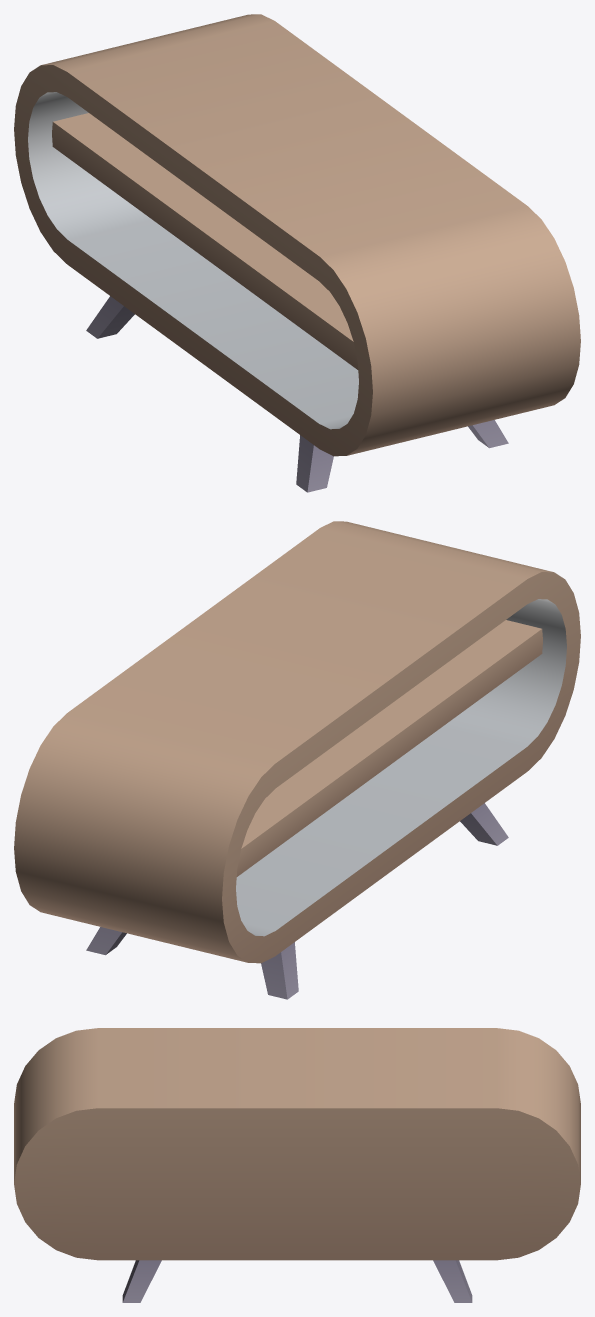
The model's file is tv-cabinet-curved-small.glb.
3 renders of one model, top to bottom at view 1: azimuth 30°, elevation 25°; view 2: azimuth 150°, elevation 25°; view 3: azimuth 270°, elevation 25°, orthographic. The views are drawn at different scales.
Visible parts, largest first — view 1: tv-cabinet-curved-small; view 2: tv-cabinet-curved-small; view 3: tv-cabinet-curved-small.
Part boxes in pixels (<box>): tv-cabinet-curved-small: <box>14,14,580,492</box>; tv-cabinet-curved-small: <box>14,521,580,999</box>; tv-cabinet-curved-small: <box>14,1028,580,1302</box>.
Size of the model in its own units: 0.4 by 0.456 by 1.2.
